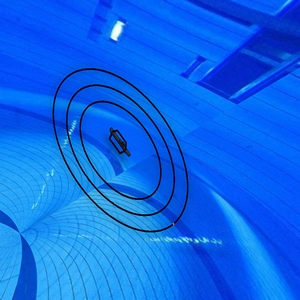circle: (44, 60, 192, 239)
submarine: (103, 126, 139, 162)
